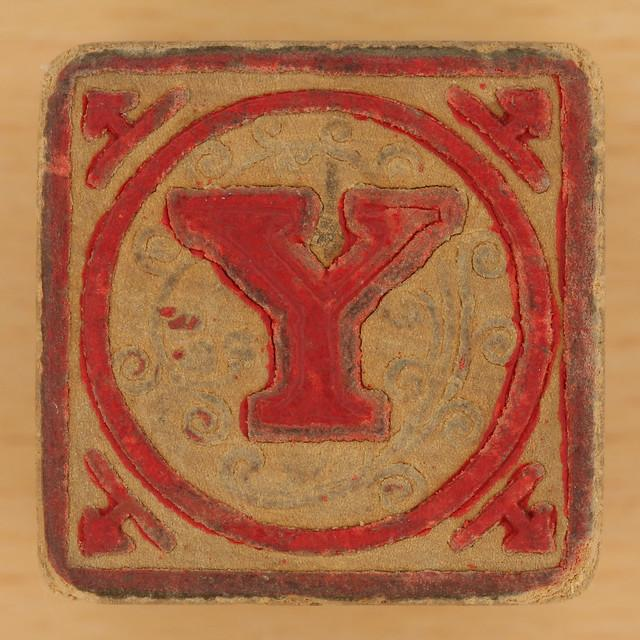Y: (160, 176, 460, 458)
